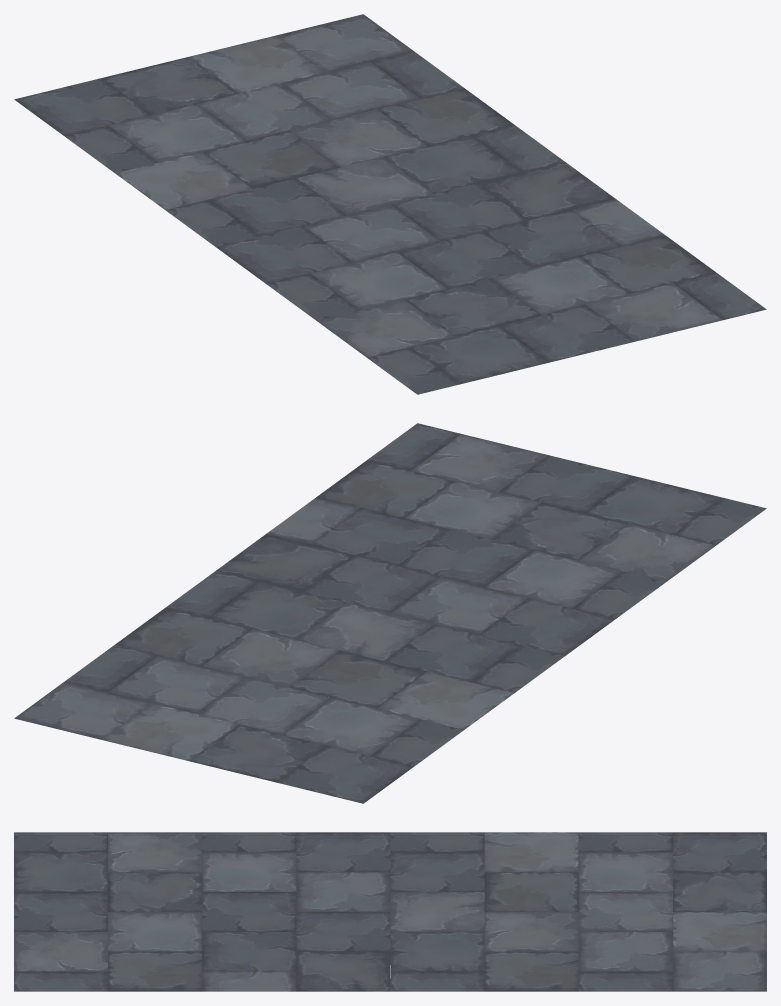
Rendered from Castle Ground X Mix 4x8.fbx.
The picture shows the model from 3 angles, top to bottom: view 1: azimuth 30°, elevation 25°; view 2: azimuth 150°, elevation 25°; view 3: azimuth 270°, elevation 25°; orthographic projection. The views are drawn at different scales.
Parts seen in each view (by area): view 1: Castle Ground X Mix 4x8; view 2: Castle Ground X Mix 4x8; view 3: Castle Ground X Mix 4x8.
Boxes of the visible parts, x1,y1,x2,y2 form: Castle Ground X Mix 4x8: (14, 14, 766, 394); Castle Ground X Mix 4x8: (14, 423, 766, 803); Castle Ground X Mix 4x8: (14, 832, 766, 991).
Bounding box in the file's own units: 3 × 1.35e-06 × 6.
